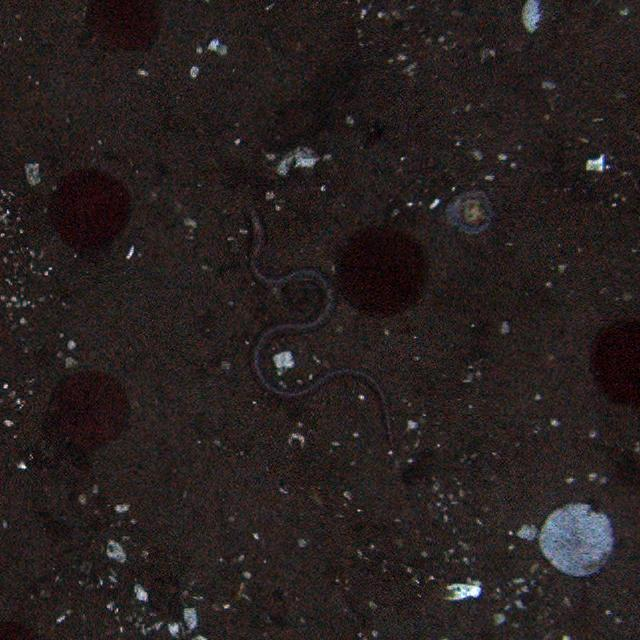eel: (250, 210, 400, 450)
